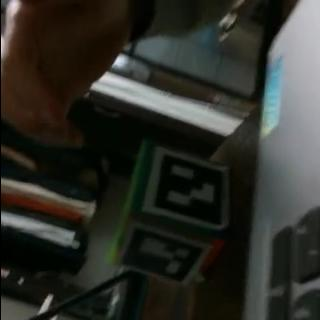armor: (141, 148, 228, 230), (117, 220, 212, 286)
robot: (105, 142, 234, 288)
